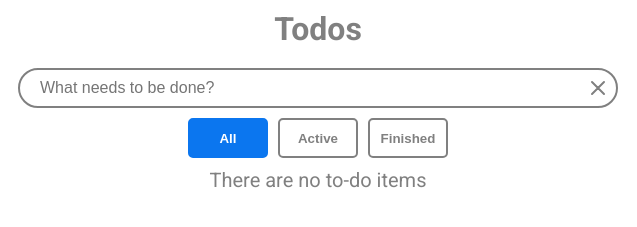
Test: App › add toDos
The width and height of the screenshot is (637, 227).
Type "Test todo Title" into the field with test id "AddToDoForm__Input" at (318, 88), box [18,68,618,108]
Then press Enter
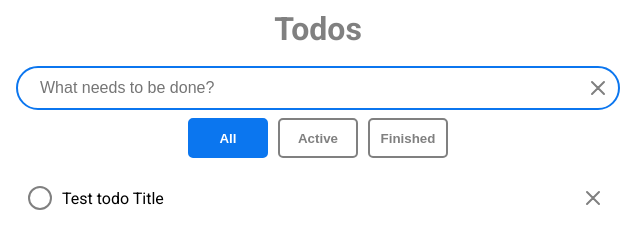
Expected: the text "Test todo Title" is shown, [62,188,164,208]
Expected: the text "Test todo Title" is shown once, [62,188,164,208]
